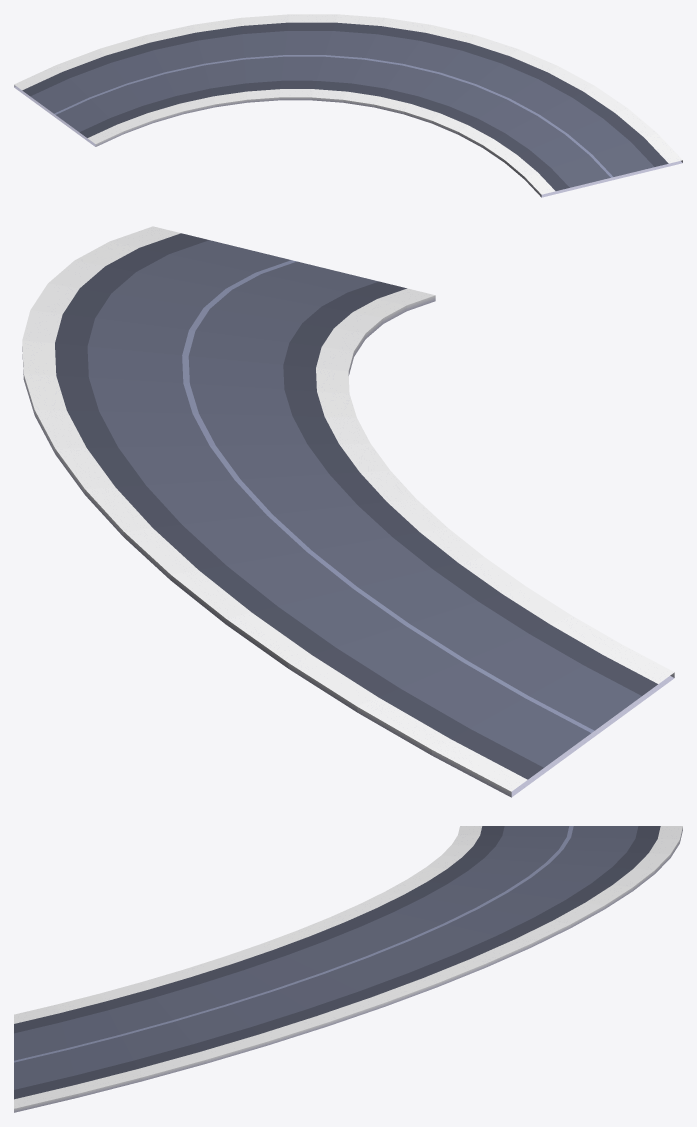
Rendered from road-Turn-BiSlopeUp-BiSlopeDown-Even-Left-Size3.glb.
The picture shows the model from 3 angles, top to bottom: view 1: azimuth 30°, elevation 25°; view 2: azimuth 150°, elevation 25°; view 3: azimuth 270°, elevation 25°; orthographic projection. The views are drawn at different scales.
Visible parts, largest first — view 1: road-Turn-BiSlopeUp-BiSlopeDown-Even-Left-Size3; view 2: road-Turn-BiSlopeUp-BiSlopeDown-Even-Left-Size3; view 3: road-Turn-BiSlopeUp-BiSlopeDown-Even-Left-Size3.
Boxes of the visible parts, x1,y1,x2,y2 form: road-Turn-BiSlopeUp-BiSlopeDown-Even-Left-Size3: (14, 14, 682, 197); road-Turn-BiSlopeUp-BiSlopeDown-Even-Left-Size3: (22, 226, 674, 797); road-Turn-BiSlopeUp-BiSlopeDown-Even-Left-Size3: (14, 826, 682, 1112).
Size of the model in its own units: 3 by 0.3306 by 3.
Materials: 1 (1 with a texture image).
